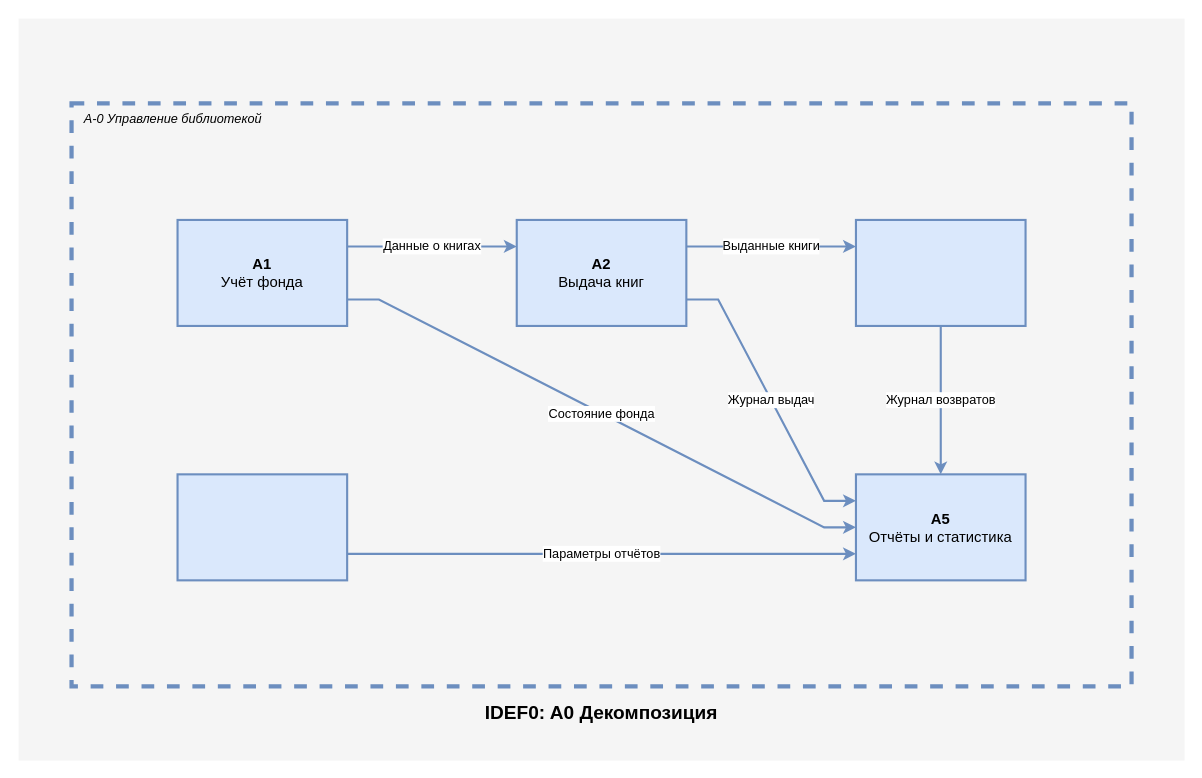
Image size: 1202x778. Some labels were removed from this diagram. The shapes that lost their labels are listed below. From the top down, each one's box as (x1, y1, x2, y2) in pixels, then its label:
(854, 218, 1026, 326): A3 Возврат книг
(176, 473, 348, 581): A4 Администрирование
